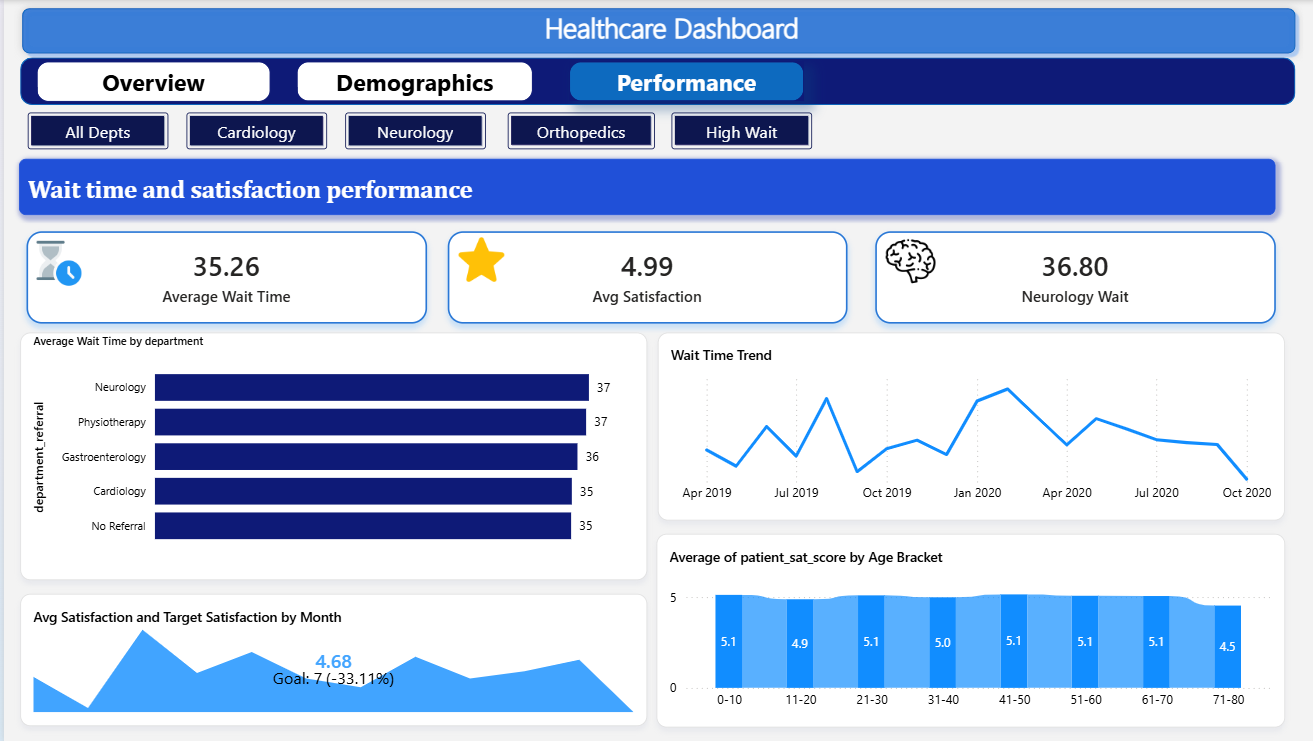

This screenshot's page, from the dashboard's own definition file:
{"tool":"powerbi","page":{"name":"Page 3 Performance","canvas":[1280,730],"ordinal":2},"visuals":[{"type":"shape","box":[9.7,0,1261.9,60.3],"z":0},{"type":"shape","box":[14.8,56.6,1075.7,45.5],"z":1000},{"type":"actionButton","box":[31.4,60.3,229.2,39.8],"z":2000},{"type":"actionButton","box":[286.8,60.3,231.4,39.4],"z":3000},{"type":"actionButton","box":[552.6,60.3,230.2,39.4],"z":4000},{"type":"textbox","box":[60.3,9.7,1187.1,47.1],"z":5000},{"type":"textbox","box":[14.8,155.1,1229.5,55.4],"z":6000},{"type":"cardVisual","fields":{"Data":["Sheet1.Average Wait Time"]},"box":[22.3,226.8,392.3,90.4],"z":7000},{"type":"cardVisual","fields":{"Data":["Sheet1.Avg Satisfaction"]},"box":[442.4,226.8,392.3,90.4],"z":8000},{"type":"cardVisual","fields":{"Data":["Sheet1.Neurology Wait"]},"box":[852.9,226.8,392.3,90.4],"z":9000},{"type":"barChart","title":"Average Wait Time by department","fields":{"Category":["Sheet1.department_referral"],"Y":["Sheet1.Average Wait Time"]},"box":[15.3,325.6,613.6,242.1],"z":10000},{"type":"lineChart","title":"Wait Time Trend","fields":{"Y":["Sheet1.Average Wait Time"],"Category":["Sheet1.Date.Variation.Date Hierarchy.Year","Sheet1.Date.Variation.Date Hierarchy.Month"]},"box":[640,325.6,613.6,183.7],"z":11000},{"type":"kpi","fields":{"Indicator":["Sheet1.Avg Satisfaction"],"Goal":["Sheet1.Target Satisfaction"],"TrendLine":["Sheet1.Date.Variation.Date Hierarchy.Month"]},"box":[15.3,581.6,613.6,129.4],"z":12000},{"type":"actionButton","box":[22.9,109.8,137.5,36.2],"z":13000},{"type":"actionButton","box":[178.6,109.8,137.5,36.2],"z":14000},{"type":"actionButton","box":[334.2,109.8,137.5,36.2],"z":15000},{"type":"actionButton","box":[493.5,109.5,144,35.7],"z":16000},{"type":"actionButton","box":[653.5,109.5,137.8,35.7],"z":17000},{"type":"ribbonChart","fields":{"Category":["Sheet1.Age Bracket"],"Y":["Avg(Sheet1.patient_sat_score)"]},"box":[638.6,521.7,615,189.2],"z":18000}]}

Visuals, with their boxes in screenshot pixels (x1, y1, x2, y2), scaled from the page's 1280x730 canvas onto the 1313x741 screenshot:
shape: 10, 0, 1304, 61
shape: 15, 57, 1119, 104
actionButton: 32, 61, 267, 102
actionButton: 294, 61, 532, 101
actionButton: 567, 61, 803, 101
textbox: 62, 10, 1280, 58
textbox: 15, 157, 1276, 214
cardVisual - Sheet1.Average Wait Time: 23, 230, 425, 322
cardVisual - Sheet1.Avg Satisfaction: 454, 230, 856, 322
cardVisual - Sheet1.Neurology Wait: 875, 230, 1277, 322
"Average Wait Time by department" barChart: 16, 331, 645, 576
"Wait Time Trend" lineChart: 656, 331, 1286, 517
kpi - Sheet1.Avg Satisfaction x Sheet1.Target Satisfaction: 16, 590, 645, 722
actionButton: 23, 111, 165, 148
actionButton: 183, 111, 324, 148
actionButton: 343, 111, 484, 148
actionButton: 506, 111, 654, 147
actionButton: 670, 111, 812, 147
ribbonChart - Sheet1.Age Bracket x Avg(Sheet1.patient_sat_score): 655, 530, 1286, 722
